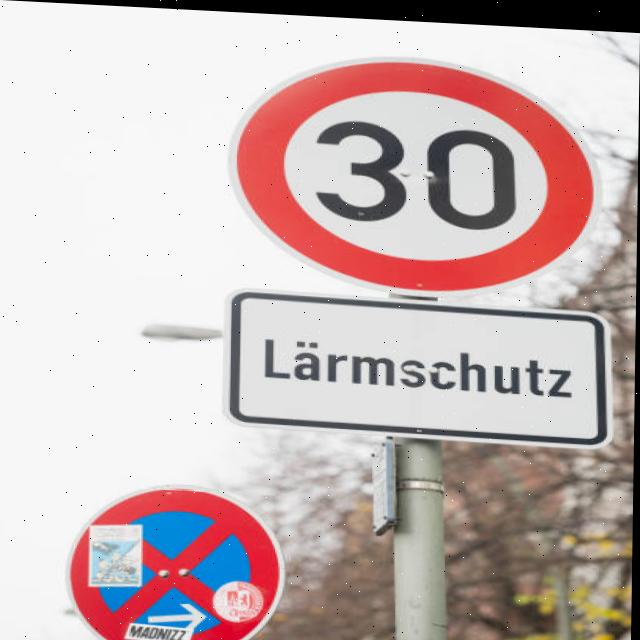Speed limit 30: (226, 44, 605, 296)
